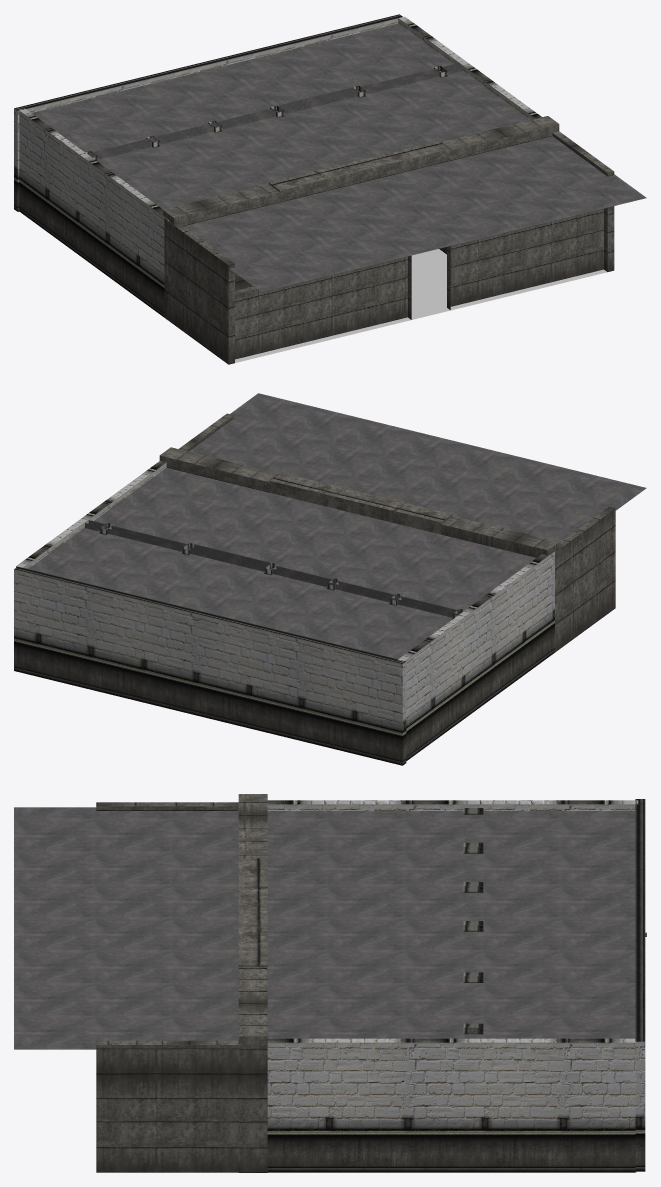
File: HC_cont1_049.gltf
The picture shows the model from 3 angles, top to bottom: view 1: azimuth 30°, elevation 25°; view 2: azimuth 150°, elevation 25°; view 3: azimuth 270°, elevation 25°; orthographic projection. The views are drawn at different scales.
Parts seen in each view (by area): view 1: HC_cont1_049; view 2: HC_cont1_049; view 3: HC_cont1_049.
Part boxes in pixels (bbox=[...]): HC_cont1_049: bbox=[14, 14, 646, 364]; HC_cont1_049: bbox=[14, 393, 646, 765]; HC_cont1_049: bbox=[14, 794, 646, 1172].
Size of the model in its own units: 19 by 5.04 by 20.83.
